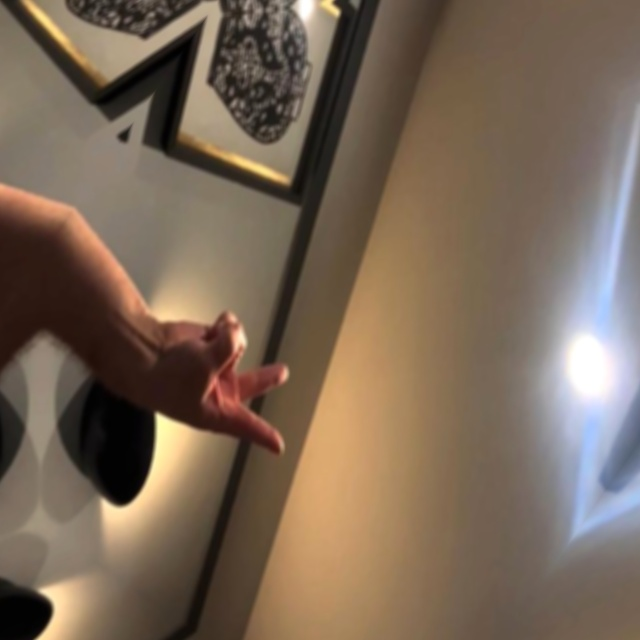Scissors: (0, 0, 12, 291)
